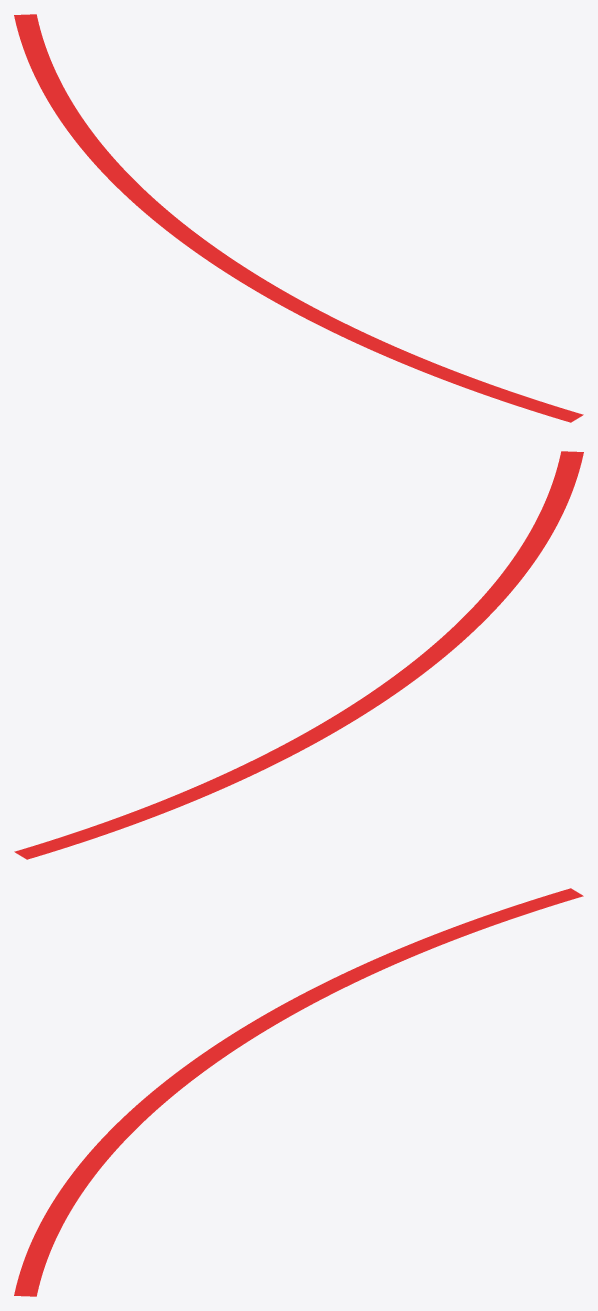
The model's file is 紅彎曲.FBX.
3 views of the same model, one above another, from view 1: azimuth 30°, elevation 25°; view 2: azimuth 150°, elevation 25°; view 3: azimuth 330°, elevation 25° (orthographic).
Parts seen in each view (by area): view 1: Plane001; view 2: Plane001; view 3: Plane001.
Part boxes in pixels (left/top/right/bottom): Plane001: left=14, top=14, right=583, bottom=422; Plane001: left=14, top=451, right=583, bottom=859; Plane001: left=14, top=888, right=583, bottom=1296.
Size of the model in its own units: 63.21 by 8.72e-07 by 489.
